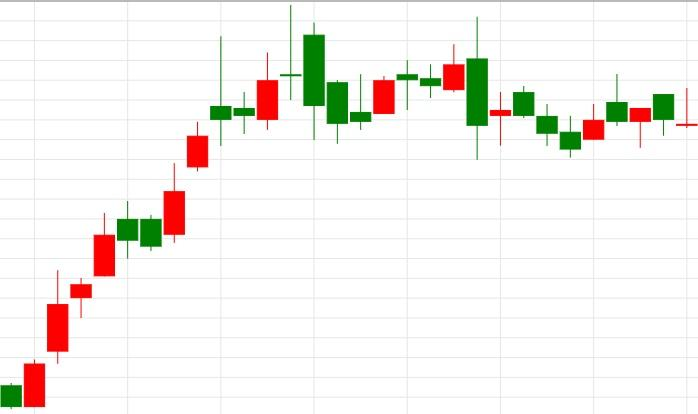morning_star_rise: (281, 4, 395, 144)
